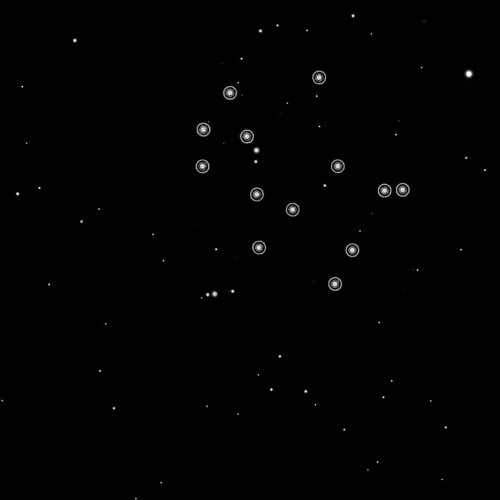gemini: (184, 60, 418, 299)
